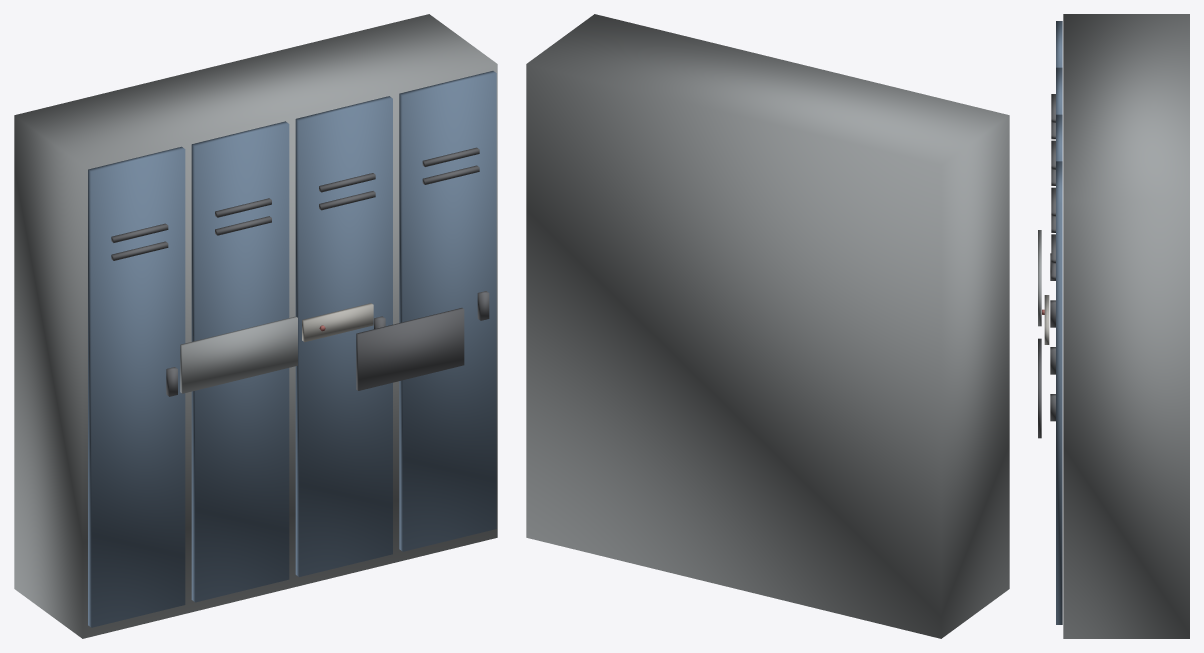
File: property_locker_bank__weathered.glb
The picture shows the model from 3 angles, left to right: view 1: azimuth 30°, elevation 25°; view 2: azimuth 150°, elevation 25°; view 3: azimuth 270°, elevation 25°; orthographic projection. The views are drawn at different scales.
Visible parts, largest first — view 1: world; view 2: world; view 3: world.
Boxes of the visible parts, bbox=[...] form: world: bbox=[14, 14, 497, 638]; world: bbox=[526, 14, 1009, 638]; world: bbox=[1038, 14, 1189, 638].
Bounding box in the file's own units: 1.68 × 1.83 × 0.576.
